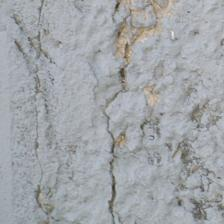Crack: (103, 66, 134, 221), (111, 4, 182, 62), (31, 75, 59, 219), (29, 1, 60, 69)
